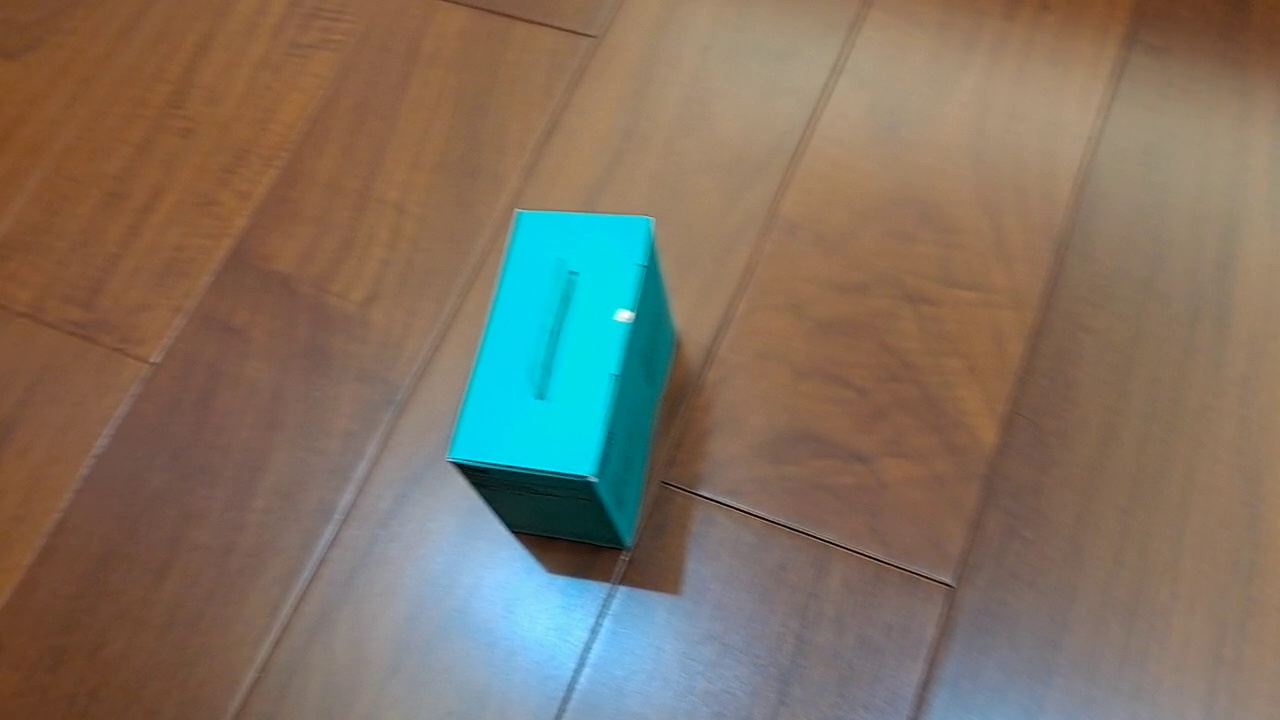webcam: (442, 205, 681, 552)
